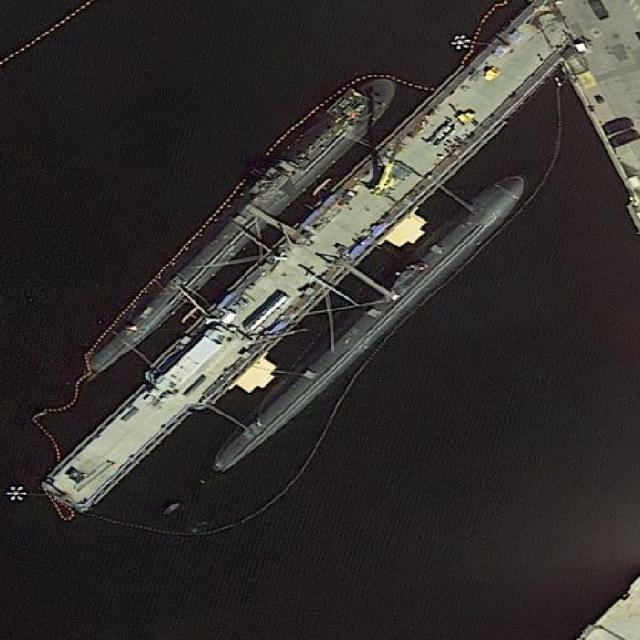Dock: (36, 11, 562, 523)
Submarine: (63, 64, 403, 392), (206, 167, 536, 478)
